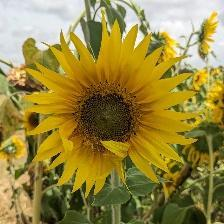sunflower: (26, 21, 202, 198)
